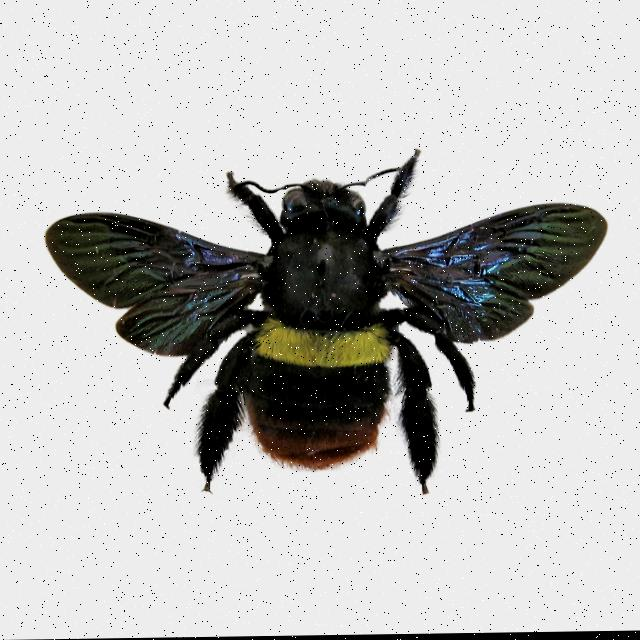Xylocopa: (42, 142, 612, 508)
